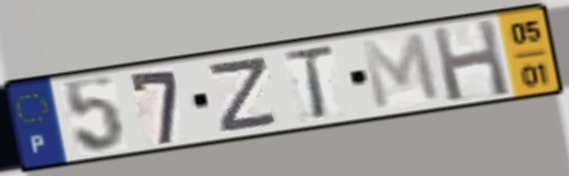5: (56, 72, 131, 155)
7: (126, 68, 181, 147)
H: (427, 16, 515, 105)
M: (356, 29, 445, 113)
T: (278, 42, 339, 123)
Z: (207, 53, 282, 136)
